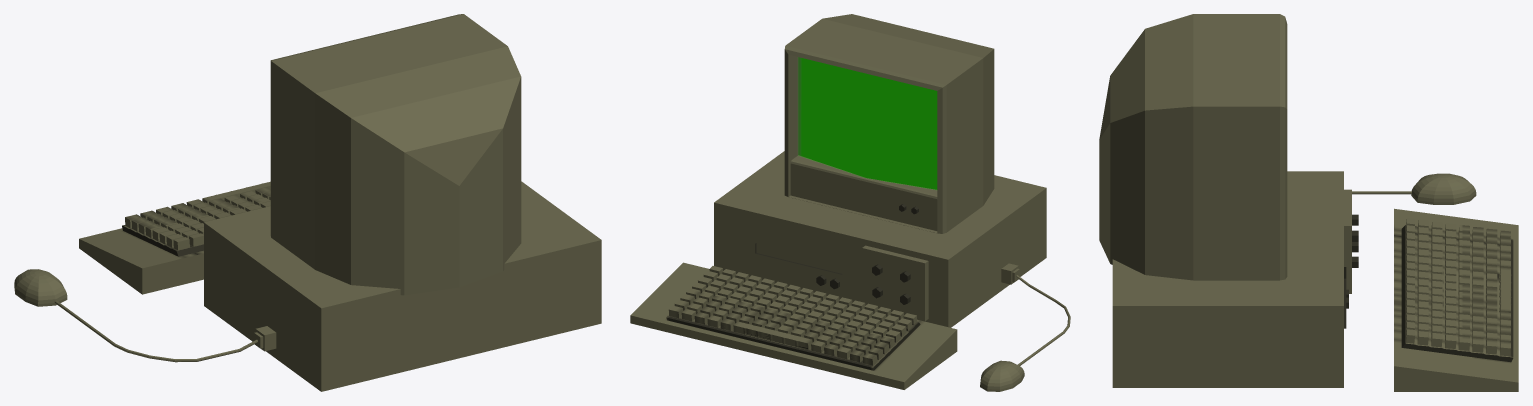
Rendered from Computer.glb.
The picture shows the model from 3 angles, left to right: view 1: azimuth 30°, elevation 25°; view 2: azimuth 150°, elevation 25°; view 3: azimuth 270°, elevation 25°; orthographic projection. The views are drawn at different scales.
Parts seen in each view (by area): view 1: Cube.043; view 2: Cube.043; view 3: Cube.043.
Part boxes in pixels (x1,y1,x2,y2): Cube.043: (14,14,601,391); Cube.043: (630,14,1070,391); Cube.043: (1099,14,1518,391).
Bounding box in the file's own units: 14.52 × 8.51 × 12.63.
1 material, 1 textured.
